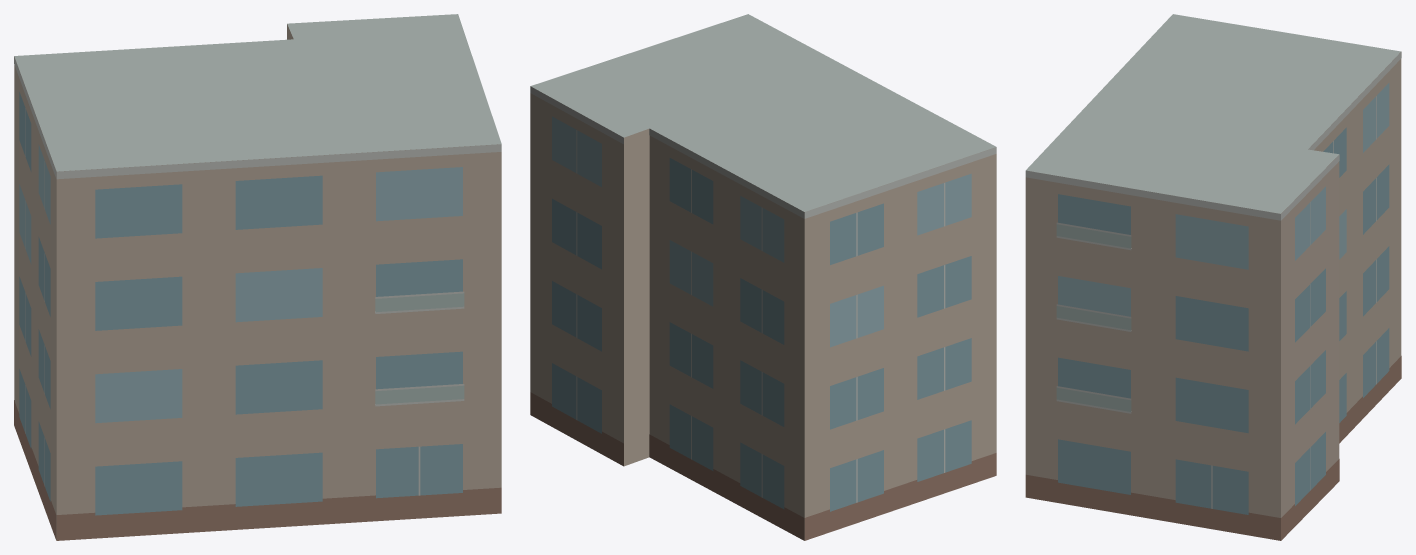
File: survey-upis-32870180.glb
3 renders of one model, left to right at view 1: azimuth 30°, elevation 25°; view 2: azimuth 150°, elevation 25°; view 3: azimuth 270°, elevation 25°, orthographic. The views are drawn at different scales.
Visible parts, largest first — view 1: survey-upis-32870180.tmp; view 2: survey-upis-32870180.tmp; view 3: survey-upis-32870180.tmp.
Part boxes in pixels (x1,y1,x2,y2): survey-upis-32870180.tmp: (14,14,501,540); survey-upis-32870180.tmp: (530,14,996,540); survey-upis-32870180.tmp: (1025,14,1401,540).
Size of the model in its own units: 15.35 by 11.7 by 12.2.
